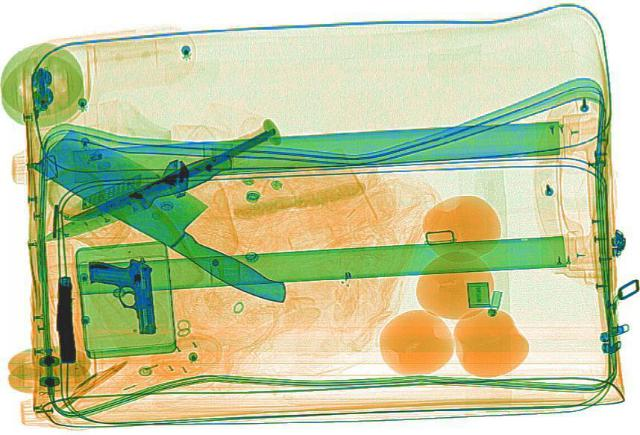Gun: (84, 257, 154, 334), (54, 275, 76, 362)
Knife: (26, 129, 327, 310), (37, 150, 245, 245), (122, 116, 296, 210)
